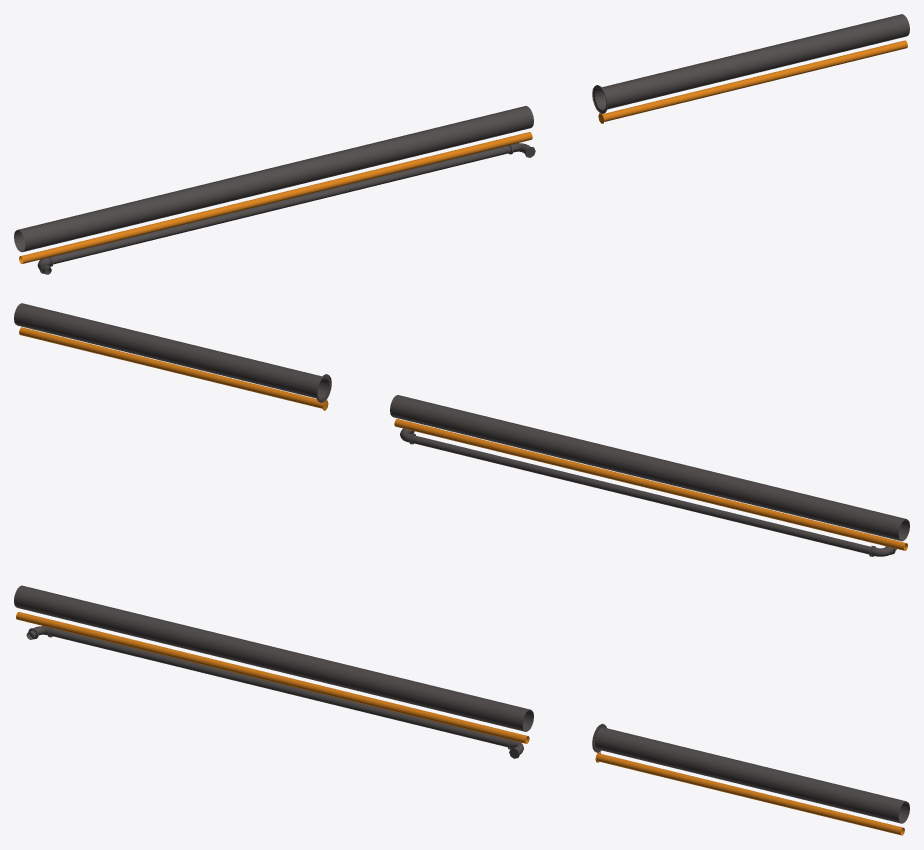
The model's file is SM_H_Building_Tide_Stairs_07e_ATLAS.fbx.
The picture shows the model from 3 angles, top to bottom: view 1: azimuth 30°, elevation 25°; view 2: azimuth 150°, elevation 25°; view 3: azimuth 330°, elevation 25°; orthographic projection.
Visible parts, largest first — view 1: SM_H_Building_Tide_Stairs_07e_ATLAS; view 2: SM_H_Building_Tide_Stairs_07e_ATLAS; view 3: SM_H_Building_Tide_Stairs_07e_ATLAS.
Boxes of the visible parts, left/top/right/bottom form: SM_H_Building_Tide_Stairs_07e_ATLAS: left=14, top=14, right=909, bottom=274; SM_H_Building_Tide_Stairs_07e_ATLAS: left=14, top=303, right=909, bottom=556; SM_H_Building_Tide_Stairs_07e_ATLAS: left=14, top=585, right=909, bottom=835.
Bounding box in the file's own units: 2842 × 90.62 × 143.
